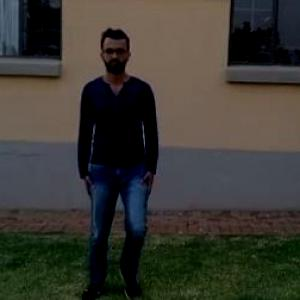follow: (82, 30, 160, 290)
